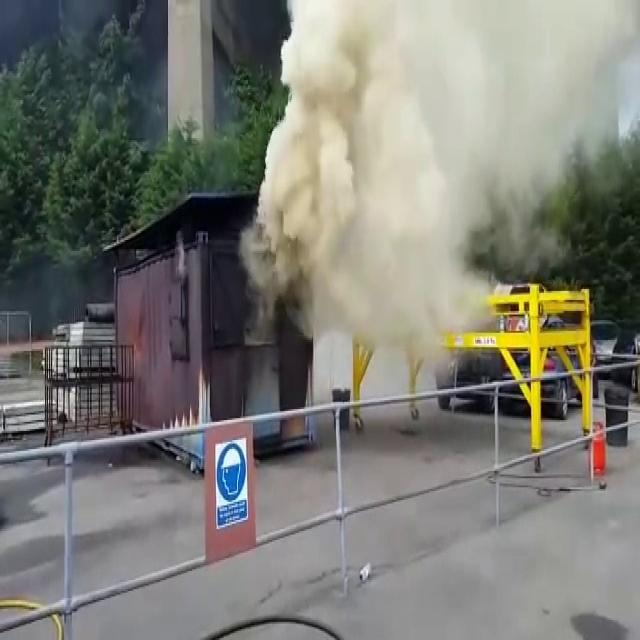Smoke: (247, 0, 627, 304)
